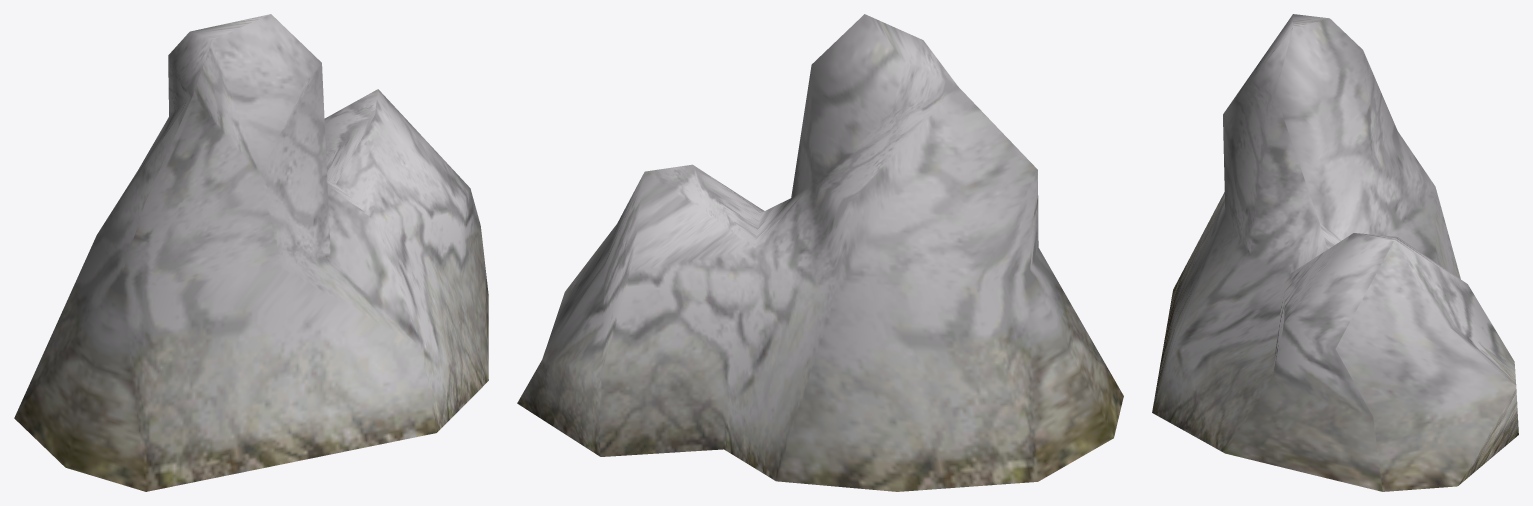
File: general_obj_bigstone08_lod_01.glb
The picture shows the model from 3 angles, left to right: view 1: azimuth 30°, elevation 25°; view 2: azimuth 150°, elevation 25°; view 3: azimuth 270°, elevation 25°; orthographic projection. The views are drawn at different scales.
Parts seen in each view (by area): view 1: Sphere01; view 2: Sphere01; view 3: Sphere01.
Part boxes in pixels (left/top/right/bottom): Sphere01: left=14, top=14, right=488, bottom=491; Sphere01: left=517, top=14, right=1123, bottom=491; Sphere01: left=1152, top=14, right=1518, bottom=491.
Bounding box in the file's own units: 23.18 × 17.16 × 16.53.
1 material, 1 textured.
